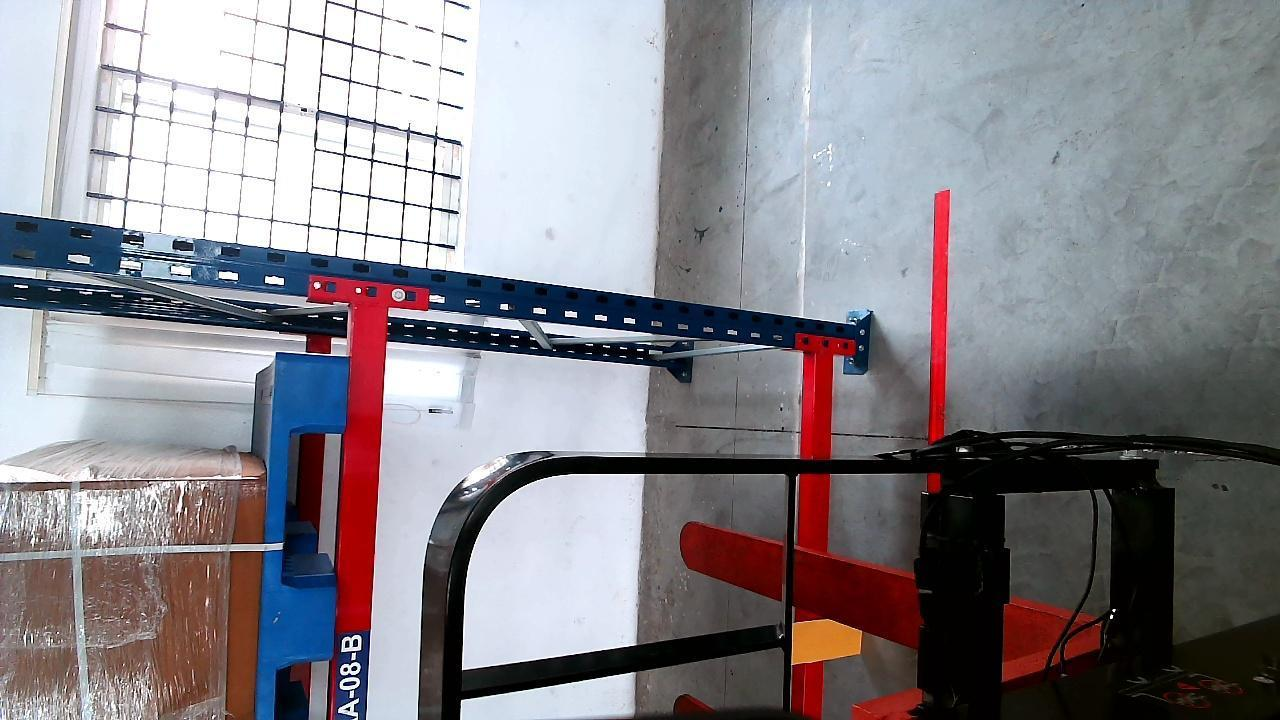h_rack: (332, 306, 391, 720), (792, 359, 833, 720)
orange_strip: (791, 617, 870, 664)
red_line: (928, 182, 951, 440)
small_pallet: (260, 354, 345, 720)
